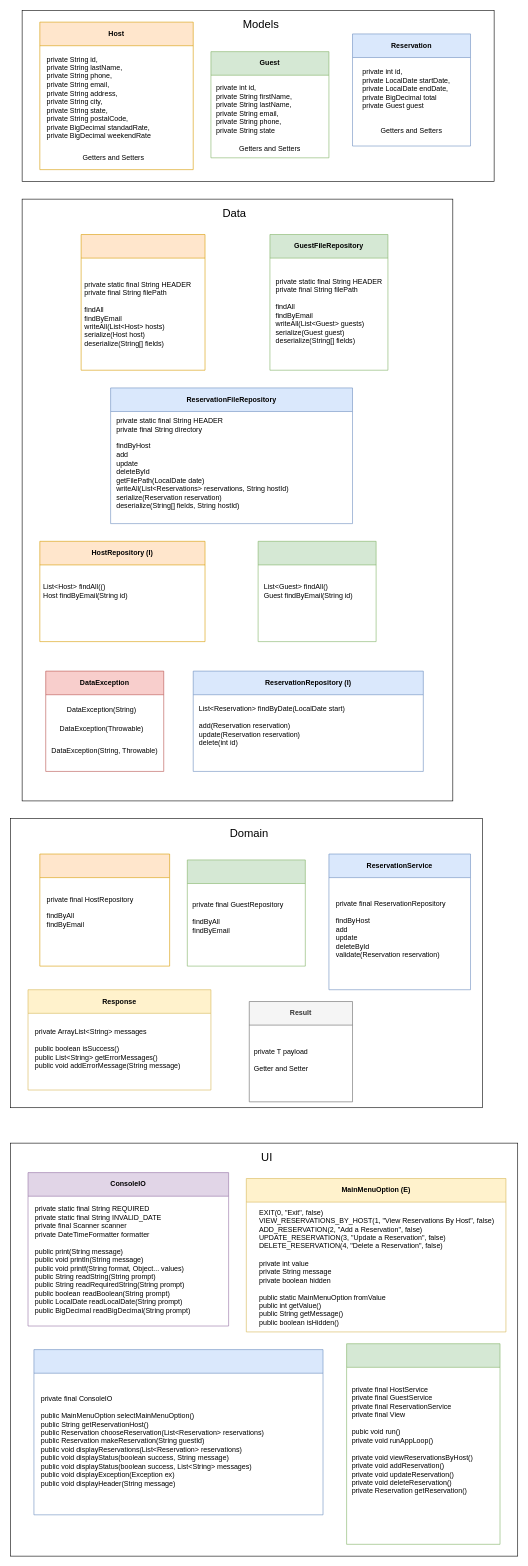
The diagram is 528 pixels wide and 1566 high, and some of its shapes have lost their labels. Each missing label, with the box of its shape:
Controller: (346, 1343, 500, 1544)
GuestRepository (I): (258, 541, 376, 642)
GuestService: (187, 859, 305, 966)
HostFileRepository: (81, 234, 205, 370)
HostService: (39, 853, 170, 966)
View: (33, 1349, 323, 1515)
